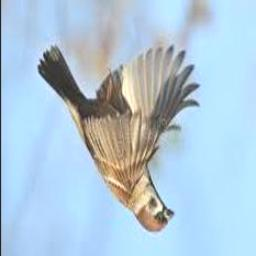Sparrow: (38, 43, 200, 233)
